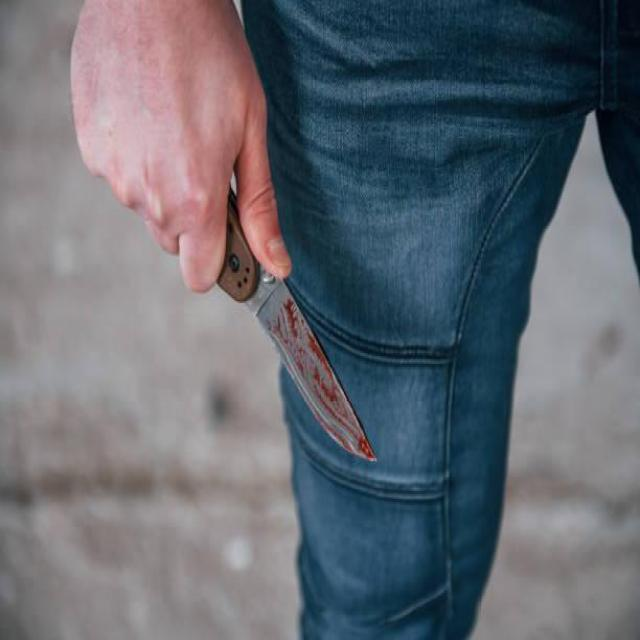faca: (64, 6, 376, 469)
